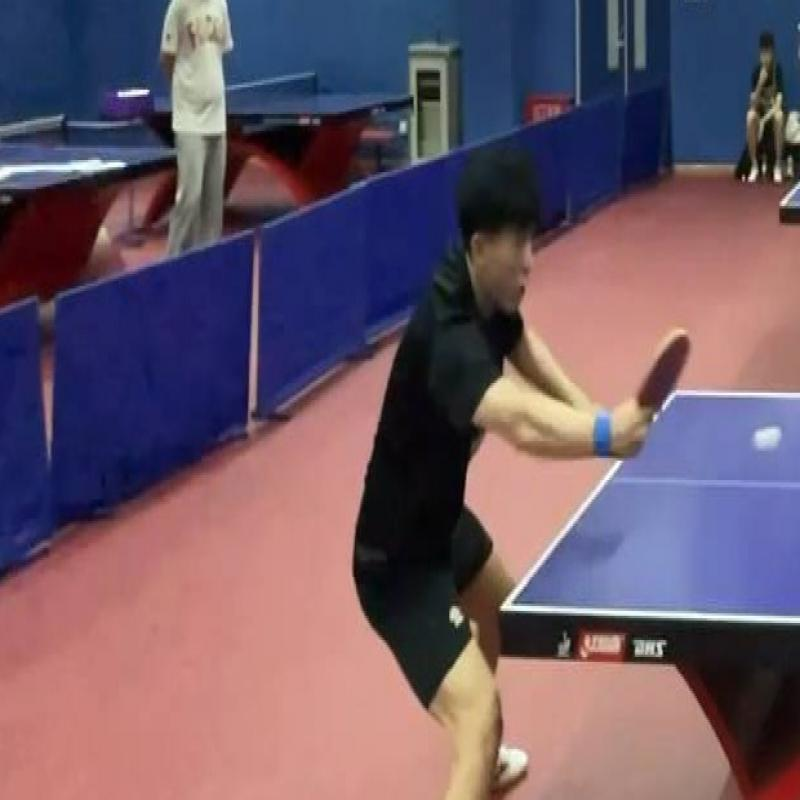bats: (627, 310, 693, 448)
